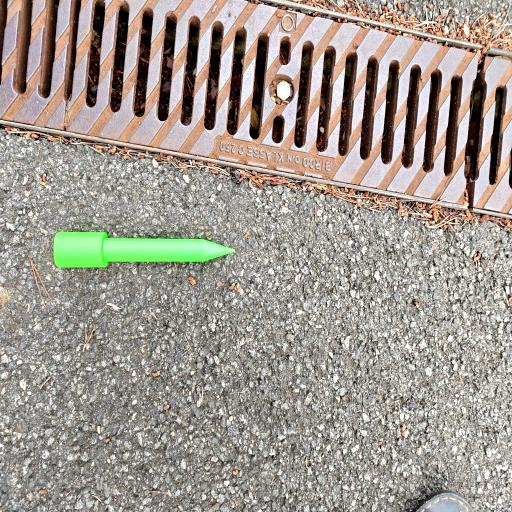Probe-Detection: (53, 232, 234, 268)
